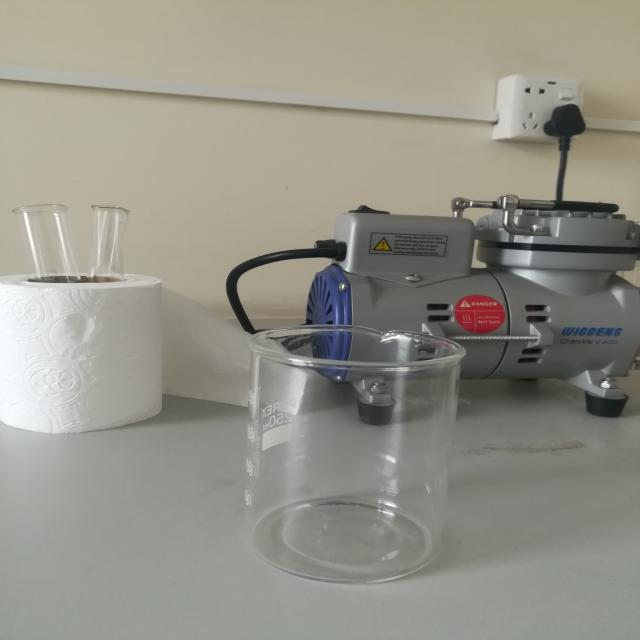Beaker: (216, 296, 524, 616)
